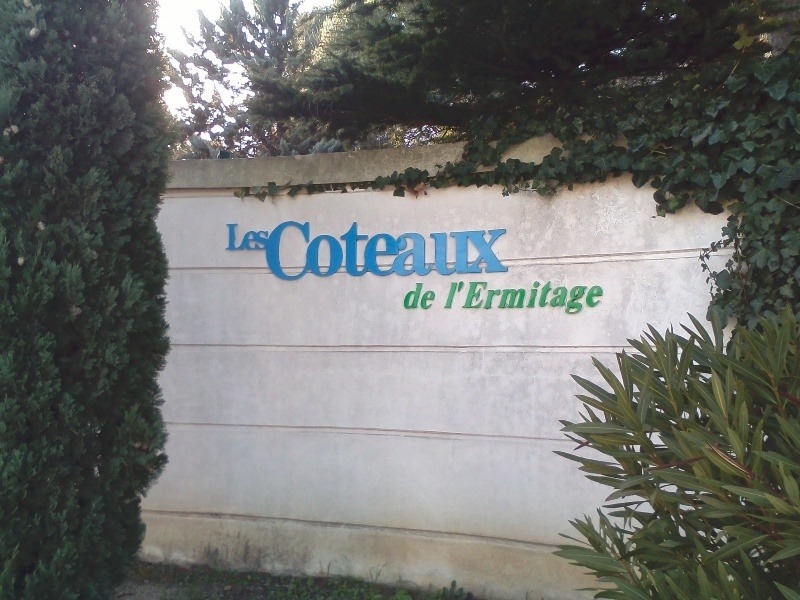text: (273, 211, 288, 283), (289, 211, 304, 283), (305, 211, 320, 283), (321, 211, 336, 283), (337, 211, 352, 283), (353, 211, 368, 283), (369, 211, 384, 283), (385, 211, 400, 283), (401, 211, 416, 283), (417, 211, 432, 283), (433, 211, 448, 283), (449, 211, 464, 283), (465, 211, 480, 283), (481, 211, 496, 283), (497, 211, 509, 283), (465, 279, 480, 316), (481, 279, 496, 316), (497, 279, 512, 316), (513, 279, 528, 316), (529, 279, 544, 316), (545, 279, 560, 316), (561, 279, 576, 316), (577, 279, 592, 316), (593, 279, 607, 316), (451, 279, 464, 316), (241, 222, 256, 252), (226, 222, 240, 252), (257, 222, 271, 252), (417, 283, 432, 311), (269, 211, 272, 283), (409, 283, 416, 311), (433, 283, 440, 311)
